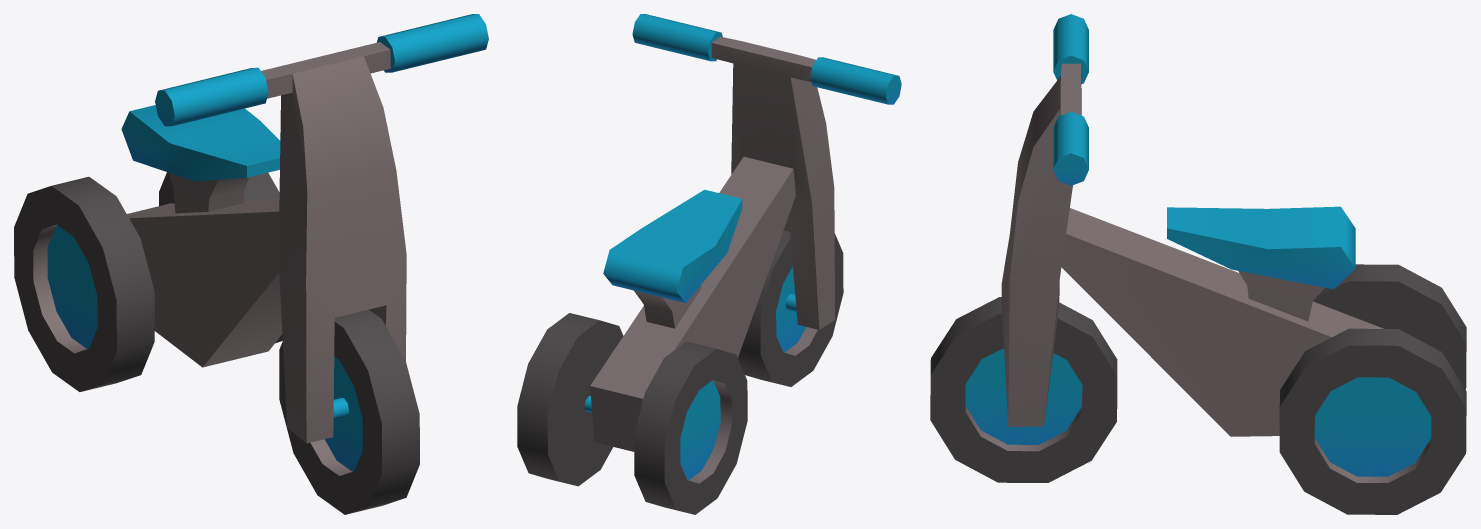
The model's file is SM_Kid_Push_Bicycle_02.fbx.
3 views of the same model, side by side, from view 1: azimuth 30°, elevation 25°; view 2: azimuth 150°, elevation 25°; view 3: azimuth 270°, elevation 25° (orthographic). The views are drawn at different scales.
Parts seen in each view (by area): view 1: SM_Kid_Push_Bicycle_02; view 2: SM_Kid_Push_Bicycle_02; view 3: SM_Kid_Push_Bicycle_02.
Part boxes in pixels (x1=…): SM_Kid_Push_Bicycle_02: x1=14, y1=14, x2=488, y2=514; SM_Kid_Push_Bicycle_02: x1=517, y1=14, x2=901, y2=514; SM_Kid_Push_Bicycle_02: x1=930, y1=14, x2=1466, y2=514.
Bounding box in the file's own units: 49.61 × 64.8 × 80.67.
